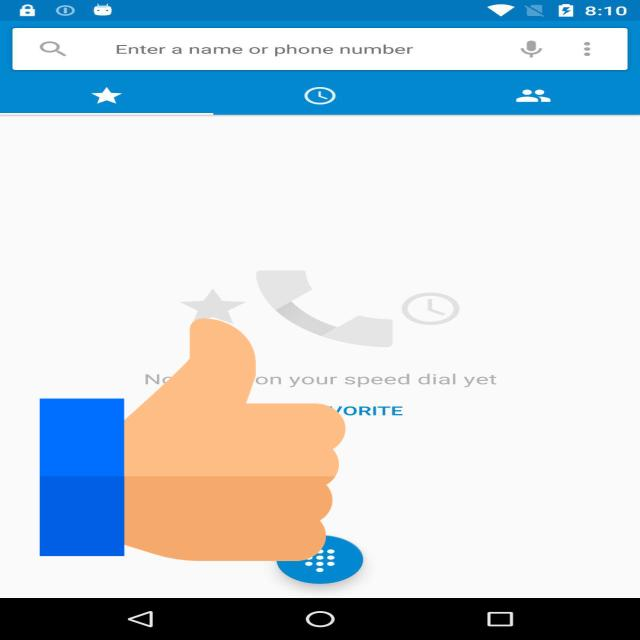privacy zuckering: (39, 312, 346, 567)
